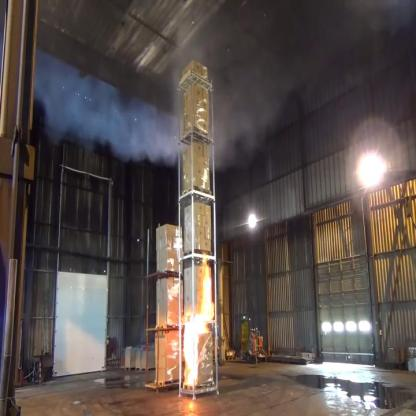fire: (179, 258, 217, 399)
